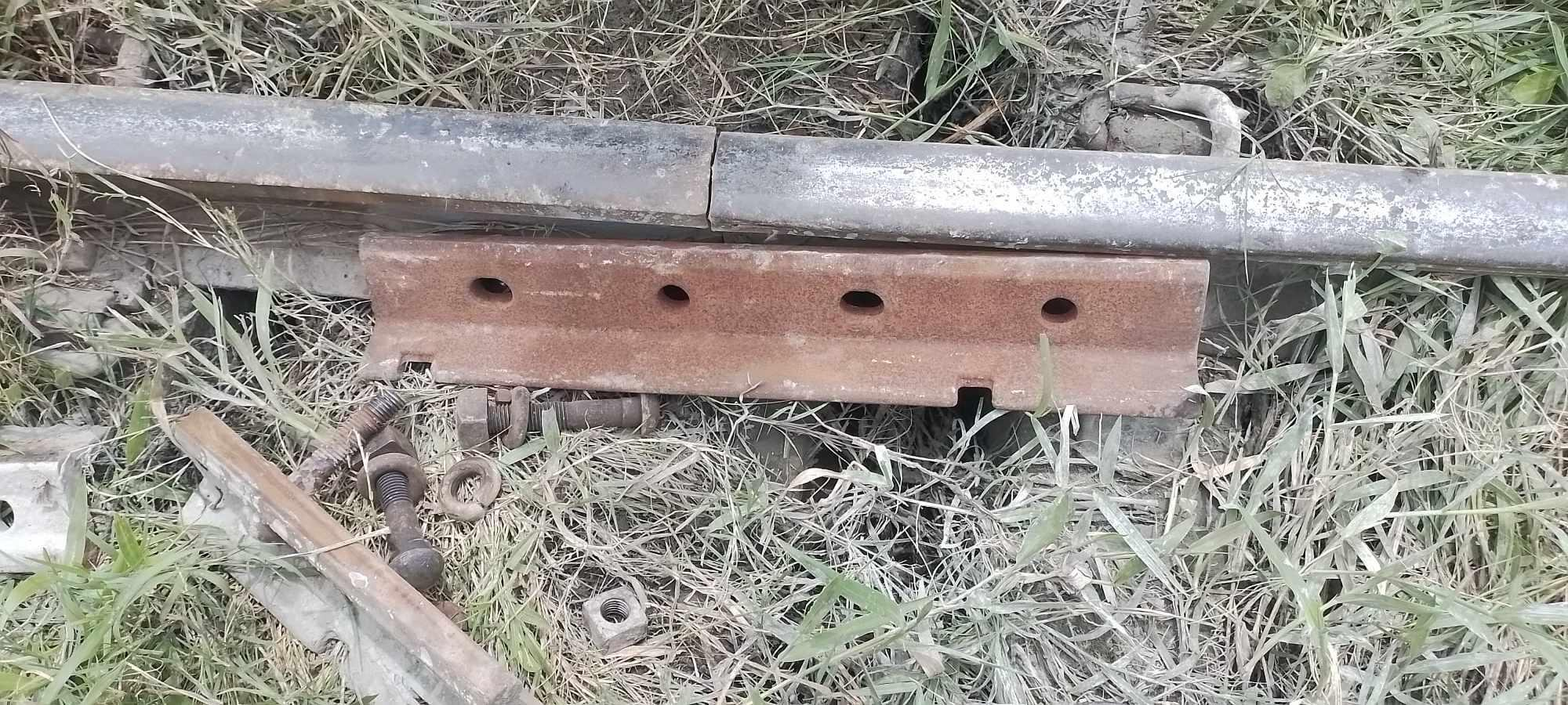railway-gap: (608, 90, 817, 265)
